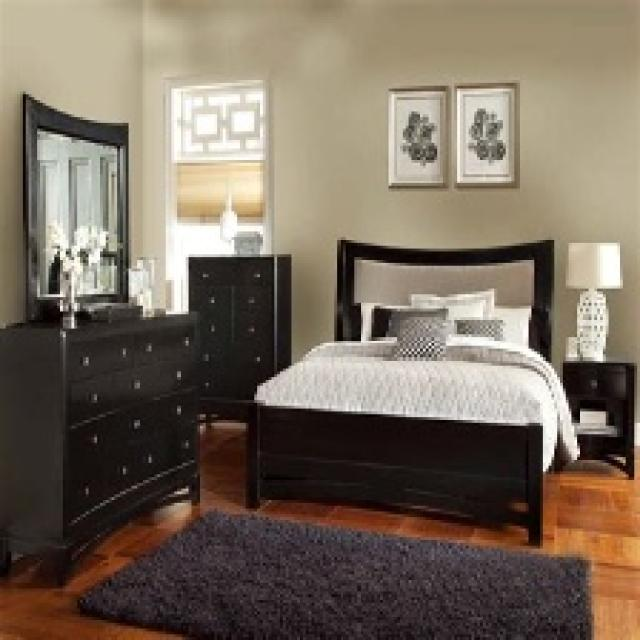Bed: (243, 237, 577, 546)
